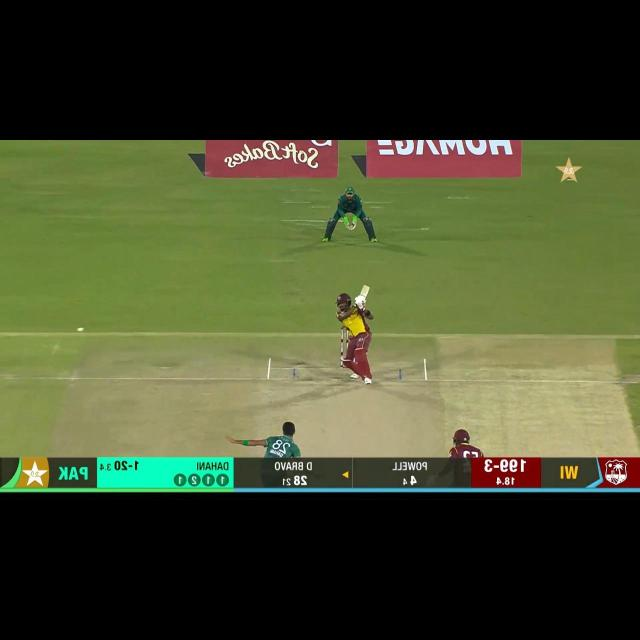bat: (362, 284, 371, 297)
toe: (362, 284, 372, 291)
